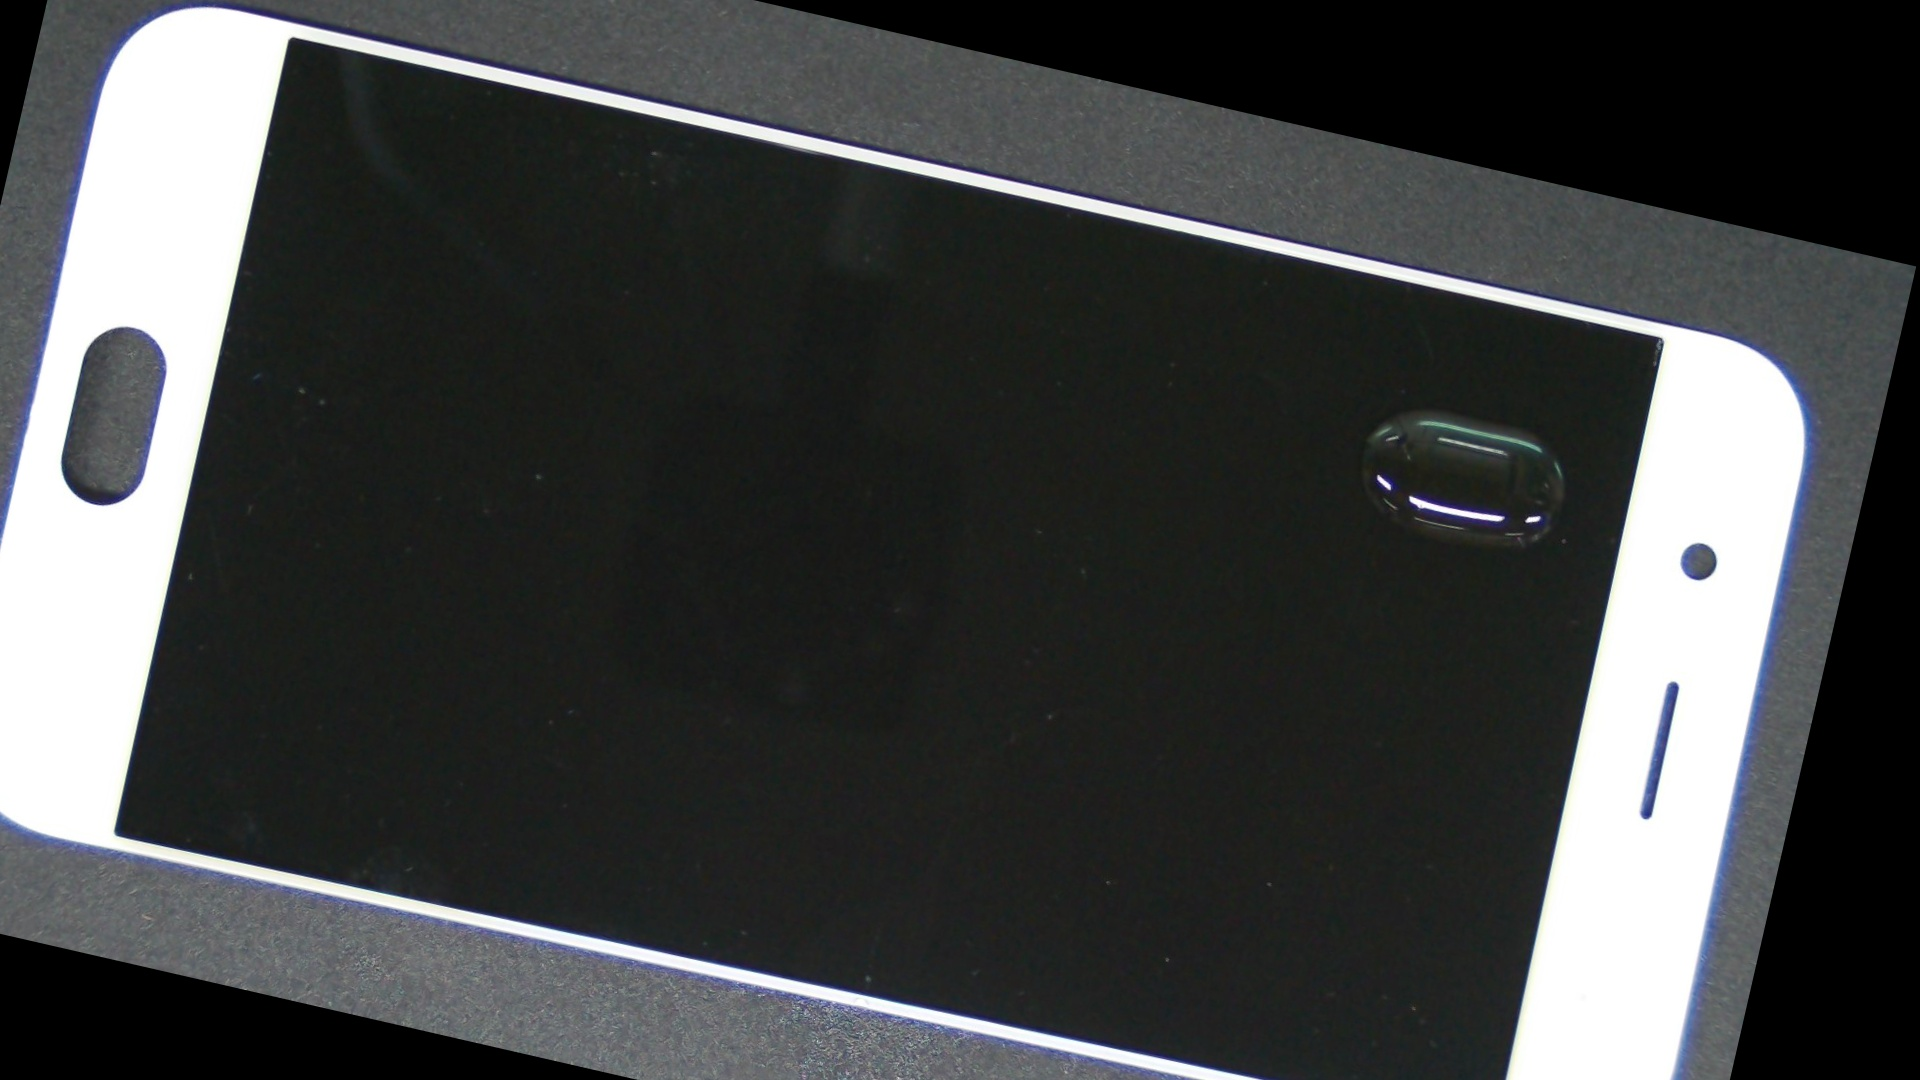oil: (745, 136, 1890, 625)
